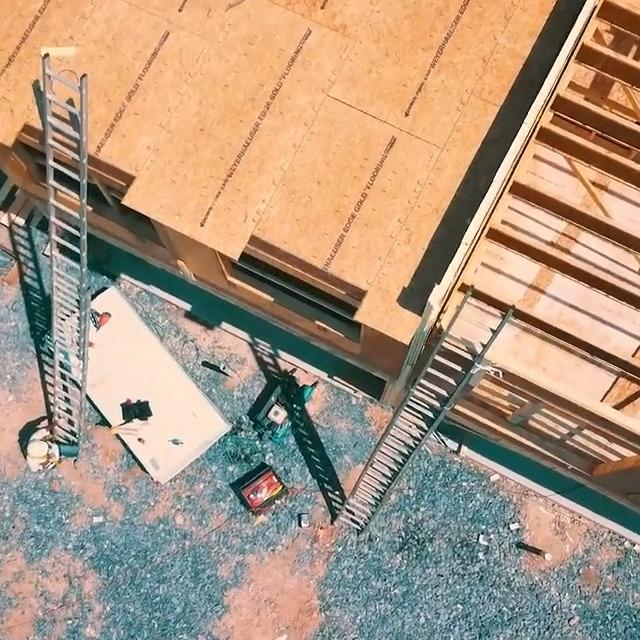Hardhat: (27, 441, 49, 457)
Ladder: (334, 285, 515, 536), (42, 53, 89, 469)
Person: (27, 420, 59, 474)
